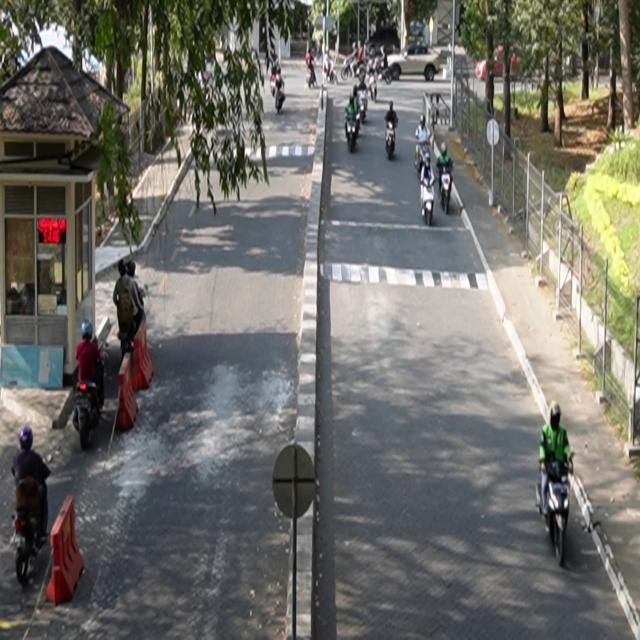car: (386, 42, 441, 82)
